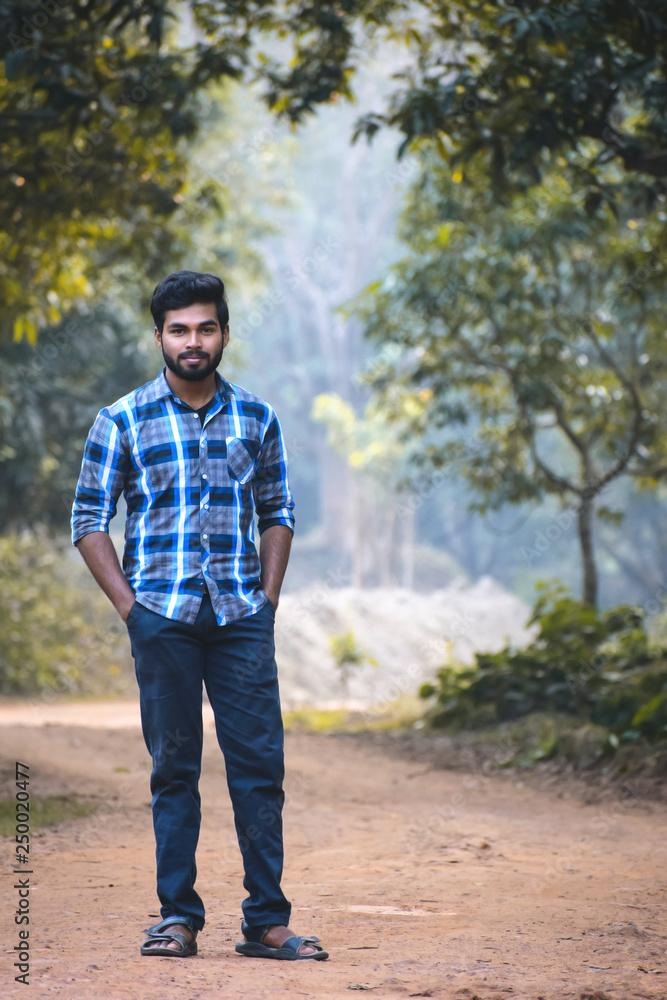Human: (71, 238, 346, 994)
